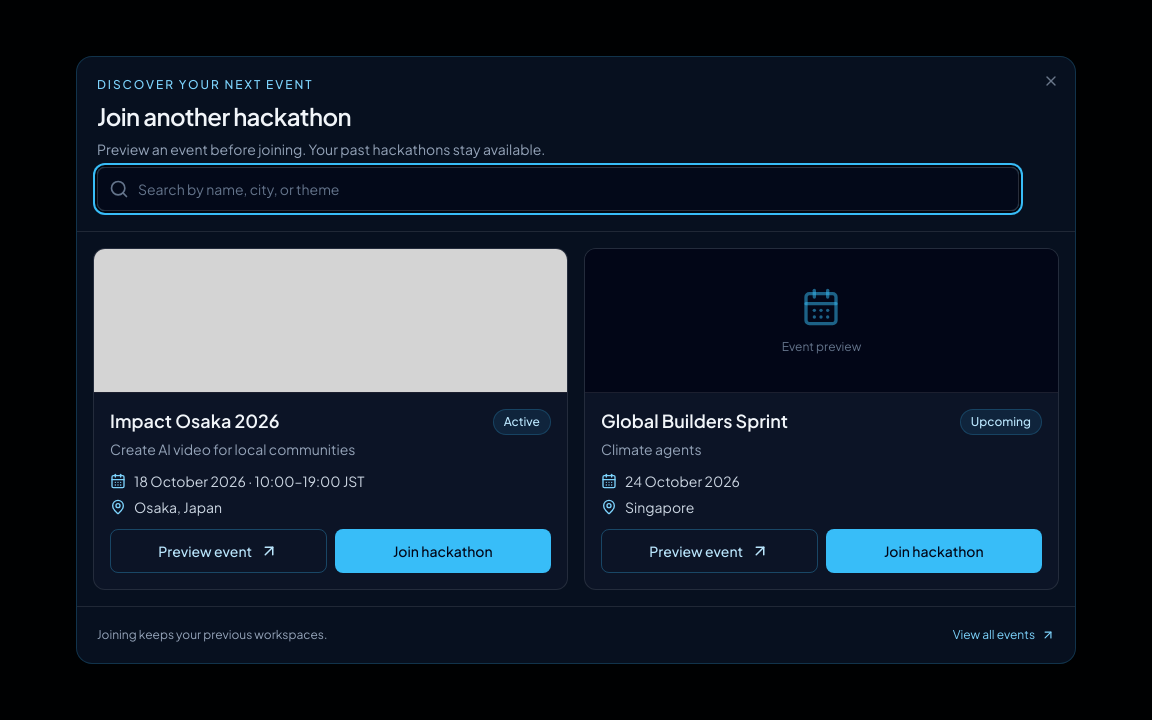
it: hackathon discovery › distinguishes unmatched search results from an empty catalog and can clear the search
The width and height of the screenshot is (1152, 720).
Later steps or results of the test are not shown.
Type "astronomy" into the search field named "Search hackathons" at (558, 189), box [97, 167, 1019, 211]
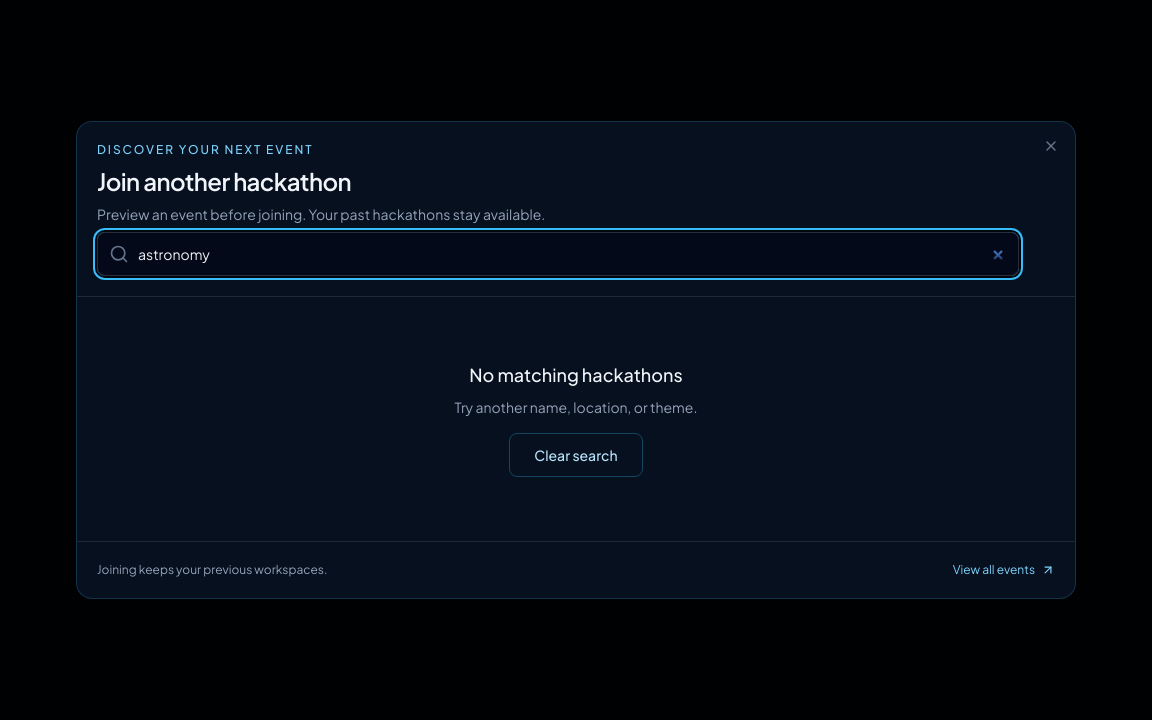
Result: the heading "No matching hackathons" is shown at [469, 363, 683, 386]
